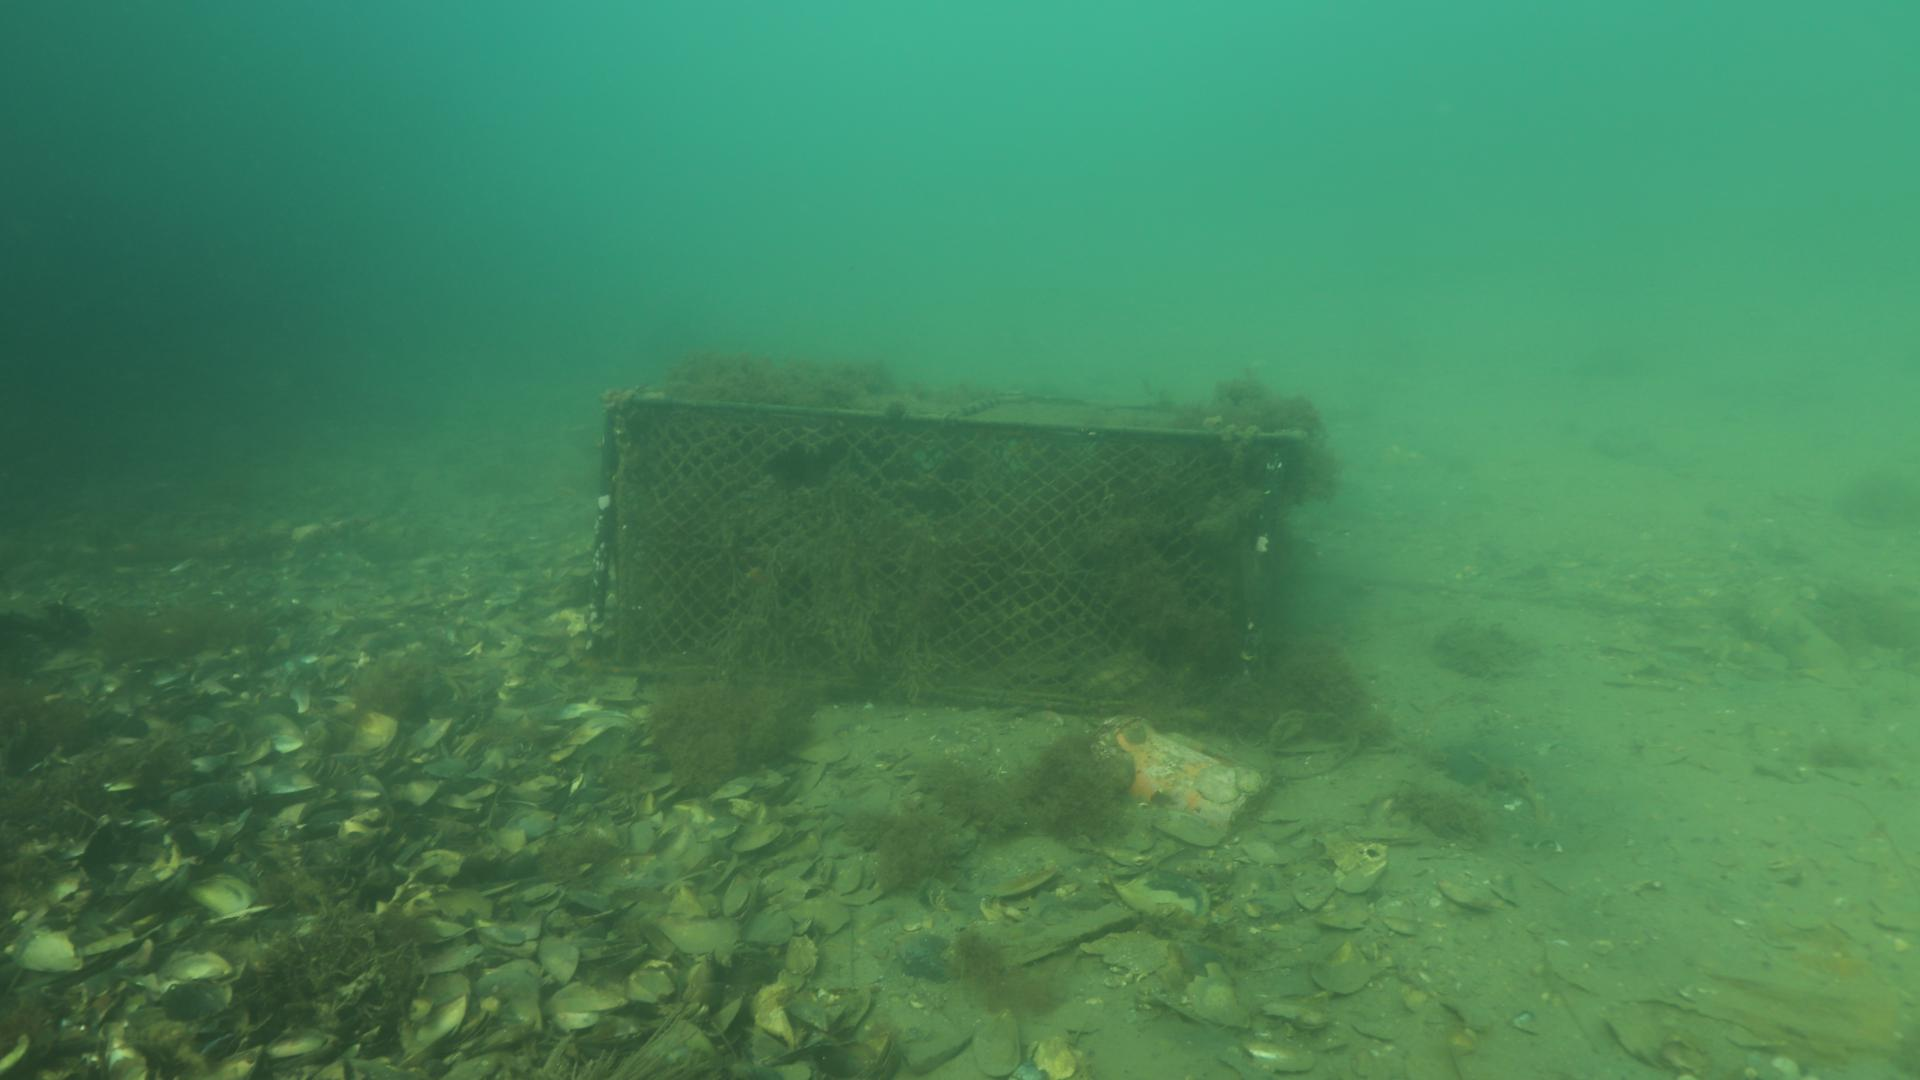rectangular fish trap: (584, 355, 1315, 733)
